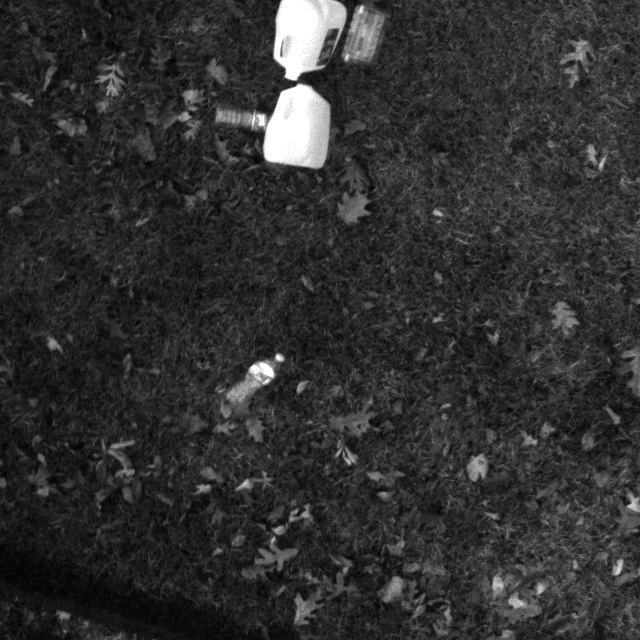bottle: (231, 347, 284, 407), (216, 95, 273, 145)
can: (254, 68, 343, 180), (261, 0, 352, 90)
container: (340, 0, 385, 76)
